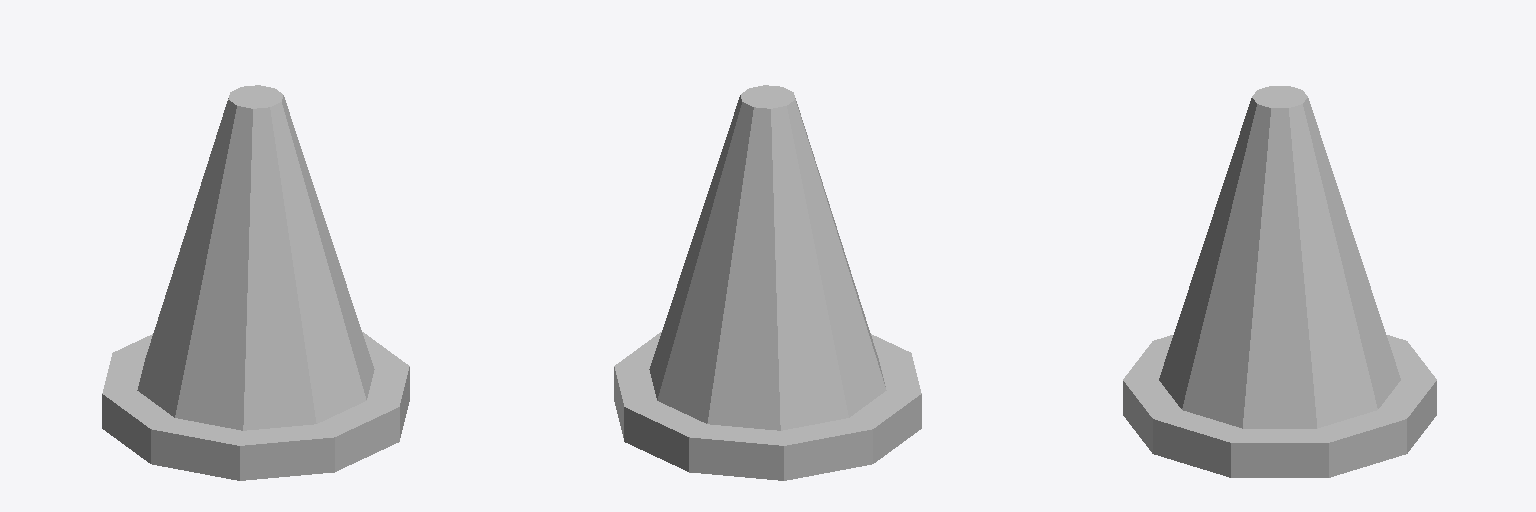
File: Props_Traffic cone.obj
The picture shows the model from 3 angles: view 1: azimuth 30°, elevation 25°; view 2: azimuth 150°, elevation 25°; view 3: azimuth 270°, elevation 25°; orthographic projection.
Parts seen in each view (by area): view 1: Props_Traffic_cone; view 2: Props_Traffic_cone; view 3: Props_Traffic_cone.
Part boxes in pixels (x1,y1,x2,y2): Props_Traffic_cone: (102,85,409,480); Props_Traffic_cone: (614,85,921,480); Props_Traffic_cone: (1123,86,1436,477).
Size of the model in its own units: 30.9 by 36.27 by 32.49.